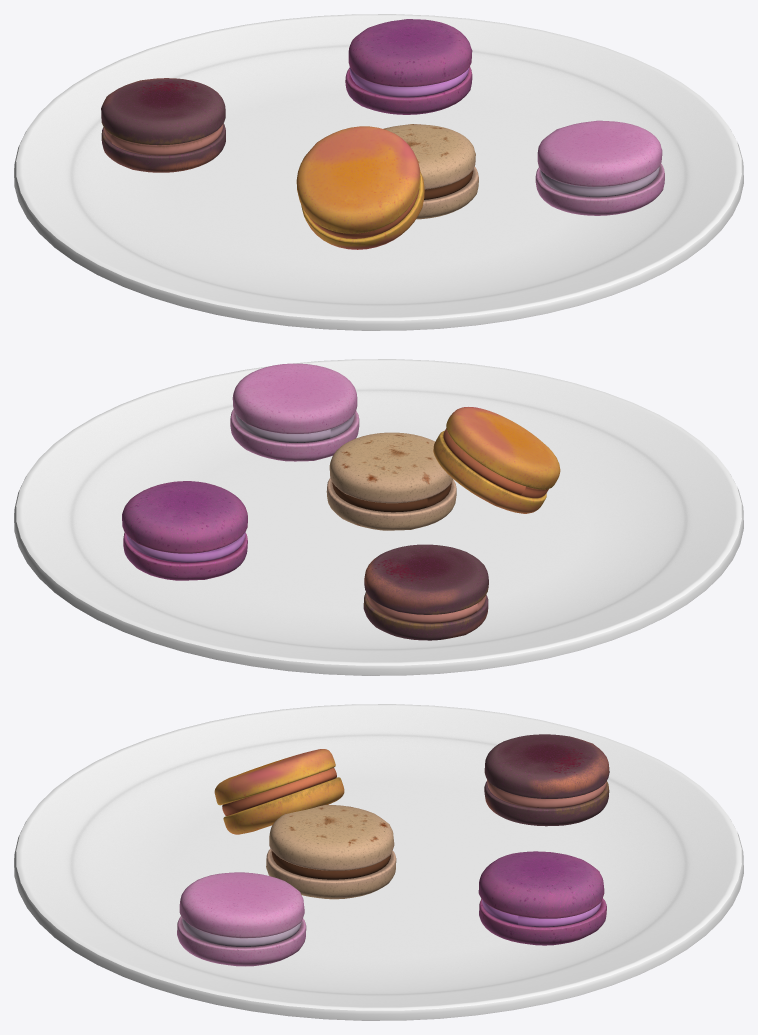
The model's file is Macaroons_plate.fbx.
The picture shows the model from 3 angles, top to bottom: view 1: azimuth 30°, elevation 25°; view 2: azimuth 150°, elevation 25°; view 3: azimuth 270°, elevation 25°; orthographic projection.
Visible parts, largest first — view 1: Macaroon_plate, Yellow_macaroon, Pink_macaroon, Voilet_macaroon, Brown_macaroon, Cream_macaroon; view 2: Macaroon_plate, Voilet_macaroon, Pink_macaroon, Cream_macaroon, Brown_macaroon, Yellow_macaroon; view 3: Macaroon_plate, Pink_macaroon, Voilet_macaroon, Cream_macaroon, Brown_macaroon, Yellow_macaroon.
Part boxes in pixels (bbox=[...]): Macaroon_plate: bbox=[14, 14, 743, 330]; Yellow_macaroon: bbox=[296, 126, 424, 249]; Pink_macaroon: bbox=[535, 120, 664, 215]; Voilet_macaroon: bbox=[345, 19, 472, 114]; Brown_macaroon: bbox=[101, 78, 225, 172]; Cream_macaroon: bbox=[383, 124, 478, 219]; Macaroon_plate: bbox=[14, 359, 743, 675]; Voilet_macaroon: bbox=[122, 481, 247, 580]; Pink_macaroon: bbox=[230, 363, 359, 461]; Cream_macaroon: bbox=[326, 432, 456, 530]; Brown_macaroon: bbox=[363, 544, 488, 640]; Yellow_macaroon: bbox=[433, 407, 560, 513]; Macaroon_plate: bbox=[14, 704, 743, 1020]; Pink_macaroon: bbox=[177, 872, 306, 966]; Voilet_macaroon: bbox=[478, 851, 606, 945]; Cream_macaroon: bbox=[266, 805, 396, 899]; Brown_macaroon: bbox=[484, 734, 609, 826]; Yellow_macaroon: bbox=[214, 749, 344, 834].
Size of the model in its own units: 32.82 by 5.51 by 32.82.
